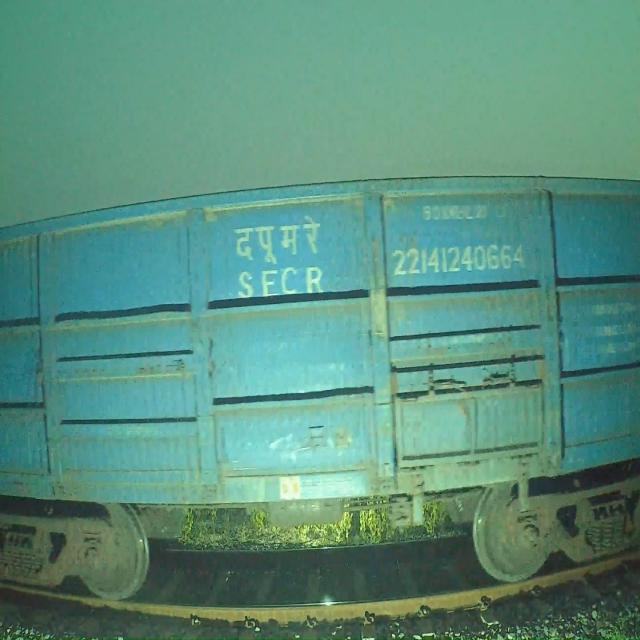WAgon-uic: (0, 175, 640, 601)
uic: (389, 234, 536, 280)
